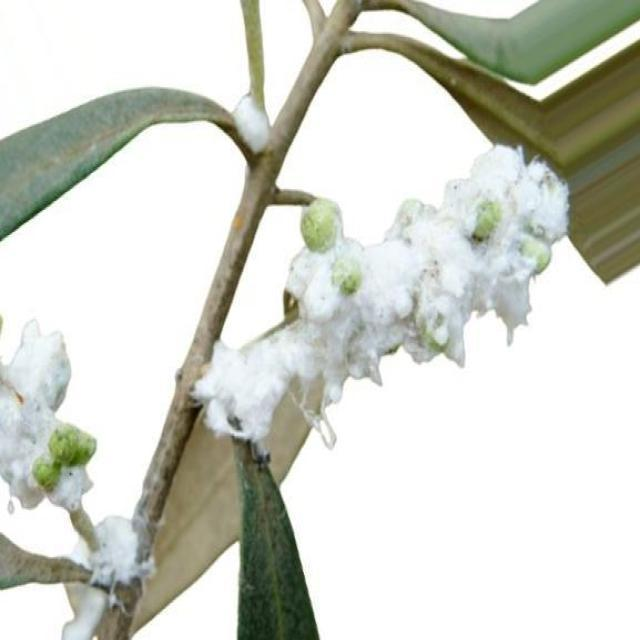Psyllid: (191, 145, 568, 460), (0, 320, 153, 638), (230, 80, 270, 162)
